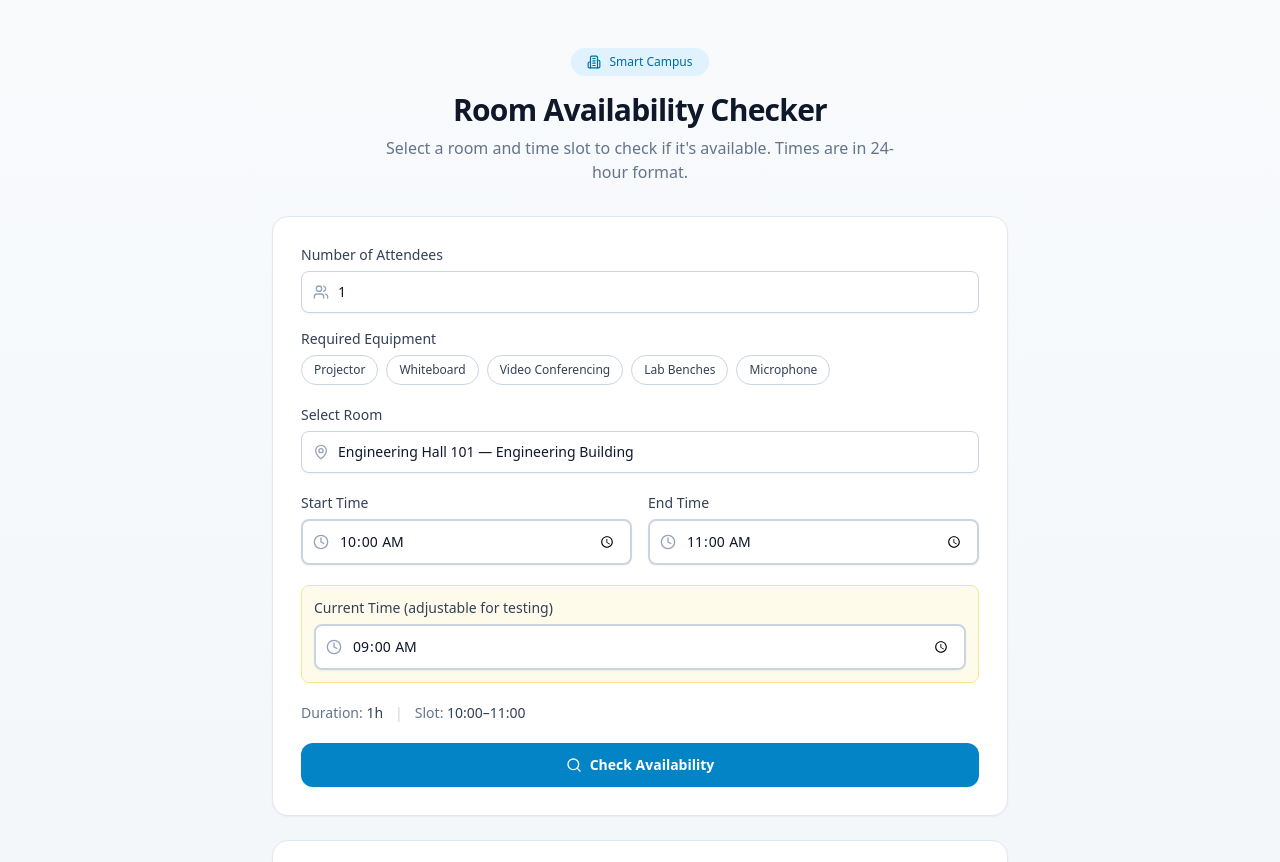
it: AI explanation UI › clears the explanation when the attendee filter changes
Click the button "Check Availability" at (640, 765), box [301,743,979,787]
(page scrolled)
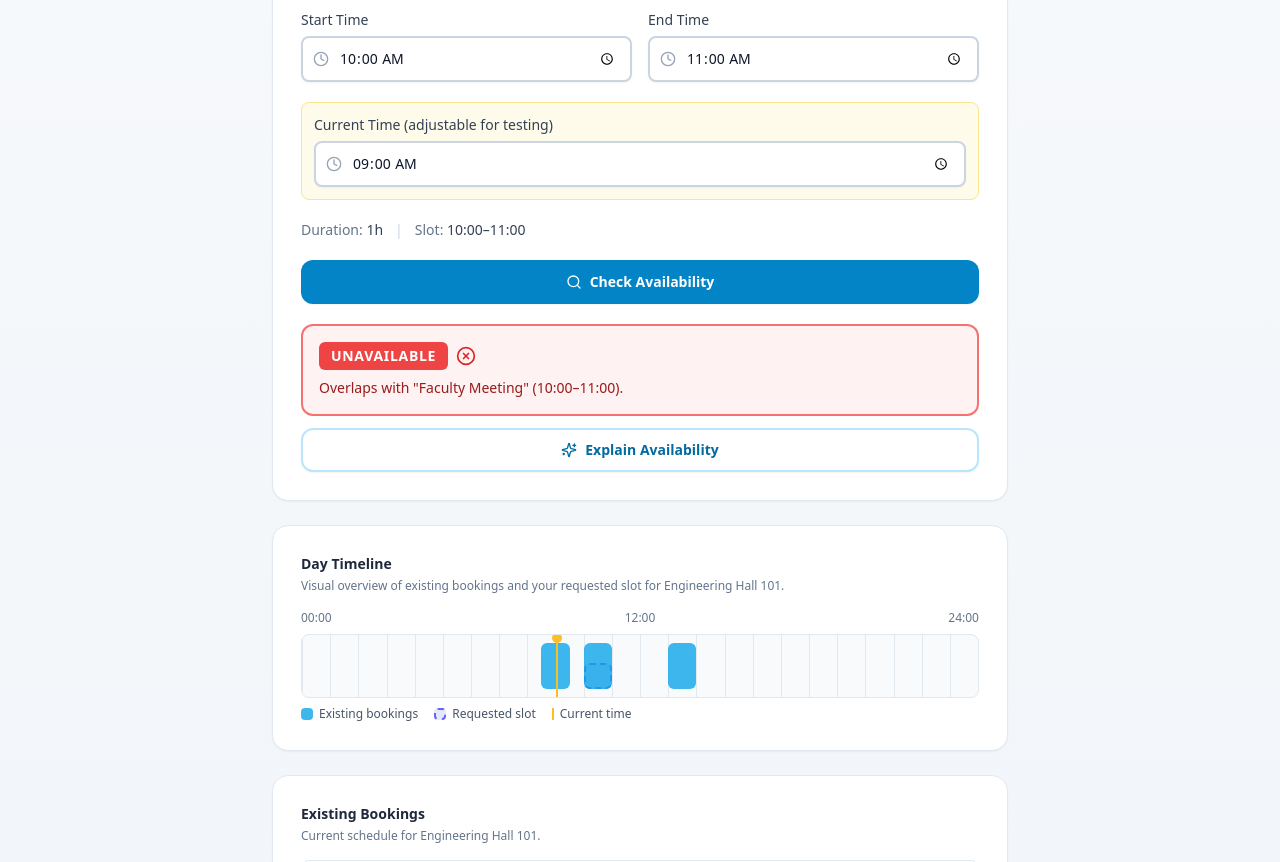
Click the button "Explain Availability" at (640, 450), box [301,428,979,472]
(page scrolled)
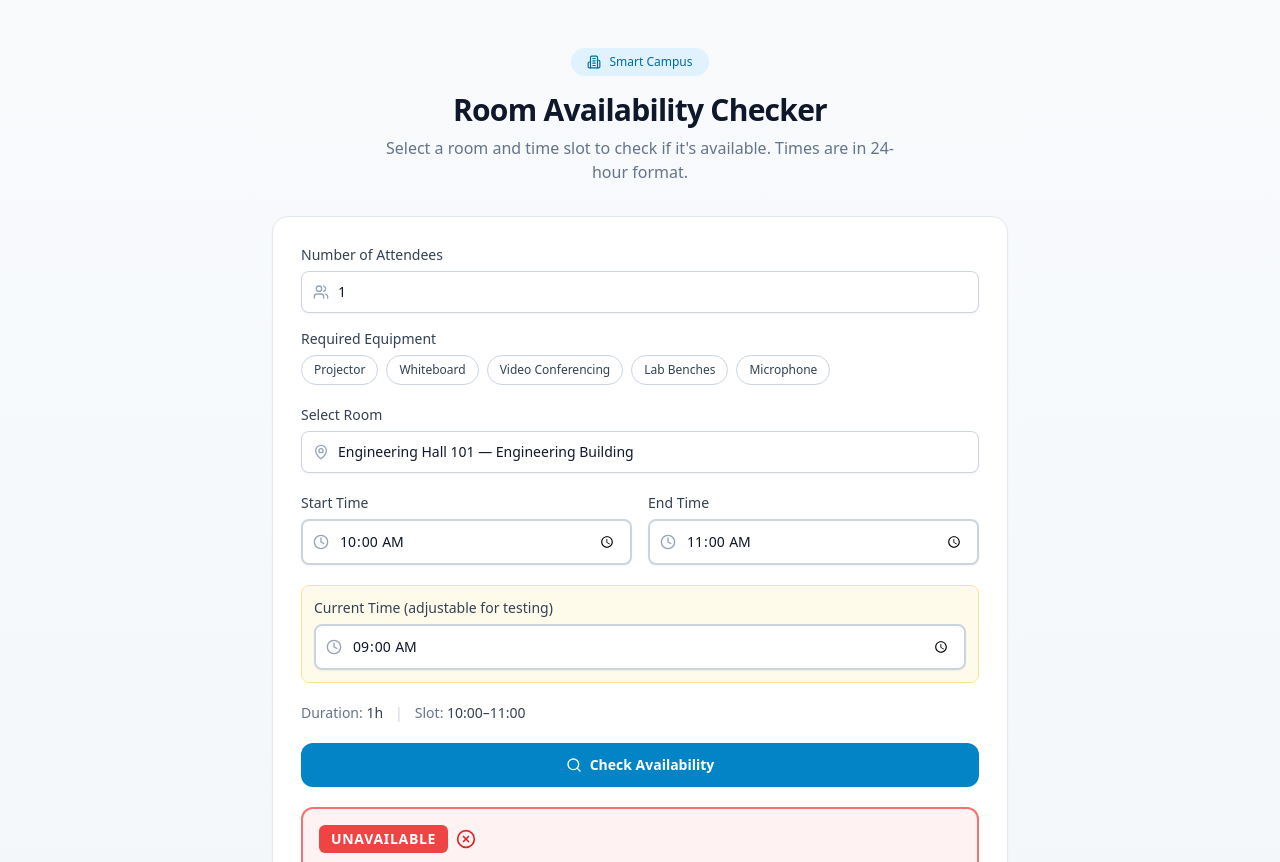
Replace the text in the number field labelled "Number of Attendees" with "2" at (640, 292), box [301,271,979,313]
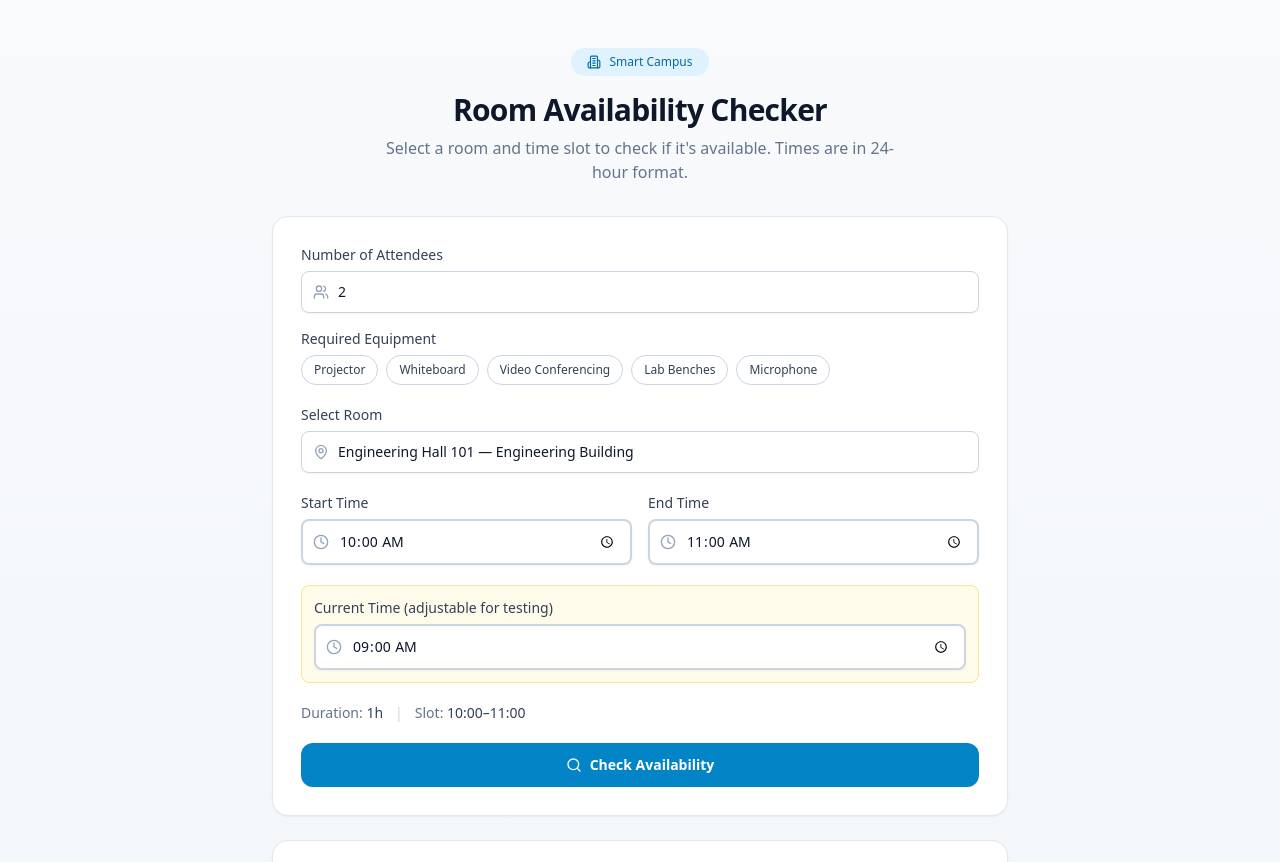
Expected: the text "Unavailable" is gone
